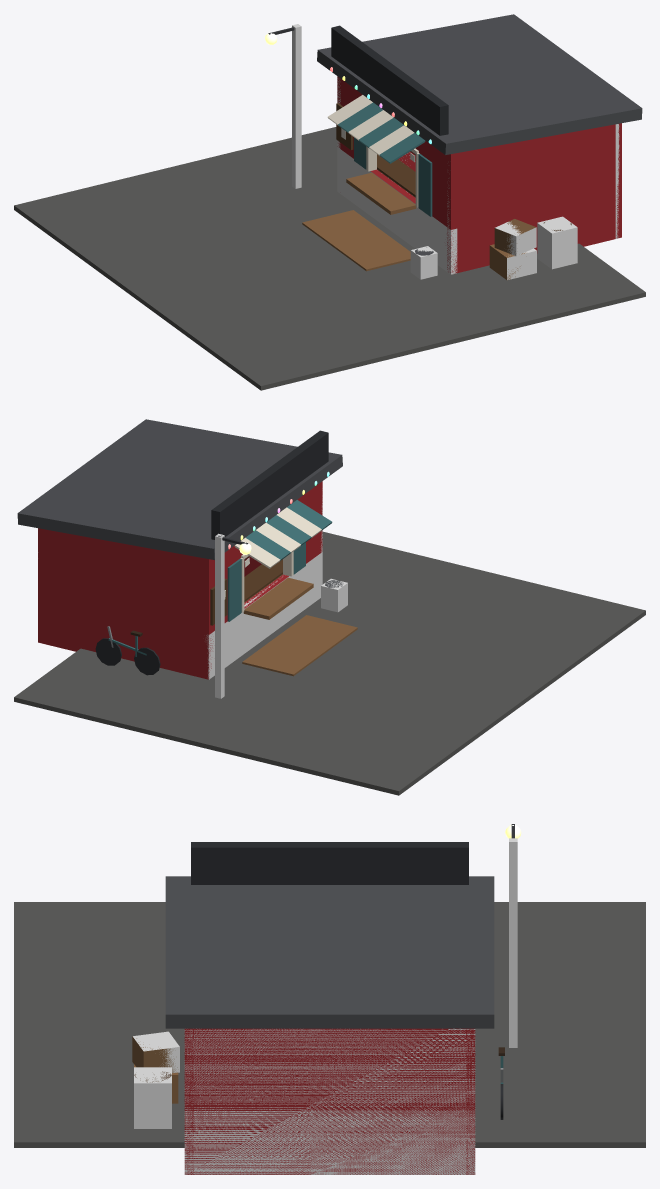
Rendered from booth-5.glb.
The picture shows the model from 3 angles, top to bottom: view 1: azimuth 30°, elevation 25°; view 2: azimuth 150°, elevation 25°; view 3: azimuth 270°, elevation 25°; orthographic projection. The views are drawn at different scales.
Parts seen in each view (by area): view 1: 33_#5a5a58_noshadow, 34_#4c4e52, 23_#a3262c, 35_#2a2c30_noshadow, solid.008, 04_#8a6440_noshadow, 01_#3f6f73_noshadow_r320, 00_#e8e0d0_noshadow_r320, 07_#8a6440_r320, solid.003, solid.004, 24_#a3262c_r320 (+5 smaller); view 2: 33_#5a5a58_noshadow, 34_#4c4e52, 23_#a3262c, 35_#2a2c30_noshadow, solid.008, 04_#8a6440_noshadow, 01_#3f6f73_noshadow_r320, 00_#e8e0d0_noshadow_r320, solid.004, 07_#8a6440_r320, 13_#2a2c30_r110, 24_#a3262c_r320 (+2 smaller); view 3: 33_#5a5a58_noshadow, 34_#4c4e52, 23_#a3262c, solid.005, 35_#2a2c30_noshadow, solid.003, solid.004, solid.002, 08_#7a5a3a_r110.
Boxes of the visible parts, x1=… form: 33_#5a5a58_noshadow: x1=14, y1=127, x2=645, y2=390; 34_#4c4e52: x1=317, y1=14, x2=642, y2=154; 23_#a3262c: x1=337, y1=76, x2=621, y2=273; 35_#2a2c30_noshadow: x1=331, y1=25, x2=448, y2=135; solid.008: x1=337, y1=147, x2=457, y2=274; 04_#8a6440_noshadow: x1=302, y1=210, x2=410, y2=271; 01_#3f6f73_noshadow_r320: x1=338, y1=102, x2=432, y2=216; 00_#e8e0d0_noshadow_r320: x1=327, y1=95, x2=419, y2=207; 07_#8a6440_r320: x1=346, y1=172, x2=525, y2=280; solid.003: x1=537, y1=216, x2=577, y2=269; solid.004: x1=292, y1=24, x2=301, y2=188; 24_#a3262c_r320: x1=341, y1=96, x2=457, y2=229; 33_#5a5a58_noshadow: x1=14, y1=531, x2=645, y2=795; 34_#4c4e52: x1=17, y1=419, x2=342, y2=559; 23_#a3262c: x1=38, y1=481, x2=322, y2=679; 35_#2a2c30_noshadow: x1=211, y1=430, x2=328, y2=539; solid.008: x1=205, y1=552, x2=322, y2=679; 04_#8a6440_noshadow: x1=242, y1=615, x2=357, y2=676; 01_#3f6f73_noshadow_r320: x1=227, y1=500, x2=332, y2=621; 00_#e8e0d0_noshadow_r320: x1=234, y1=507, x2=321, y2=612; solid.004: x1=215, y1=533, x2=224, y2=698; 07_#8a6440_r320: x1=243, y1=577, x2=313, y2=619; 13_#2a2c30_r110: x1=95, y1=638, x2=160, y2=675; 24_#a3262c_r320: x1=202, y1=501, x2=322, y2=634; 33_#5a5a58_noshadow: x1=14, y1=902, x2=645, y2=1147; 34_#4c4e52: x1=165, y1=876, x2=494, y2=1028; 23_#a3262c: x1=184, y1=1028, x2=475, y2=1174; solid.005: x1=184, y1=1028, x2=475, y2=1174; 35_#2a2c30_noshadow: x1=191, y1=842, x2=468, y2=884; solid.003: x1=134, y1=1067, x2=171, y2=1128; solid.004: x1=509, y1=838, x2=517, y2=1047; solid.002: x1=133, y1=1031, x2=179, y2=1072; 08_#7a5a3a_r110: x1=132, y1=1036, x2=177, y2=1073.
Size of the model in its own units: 10.3 by 3.85 by 10.
